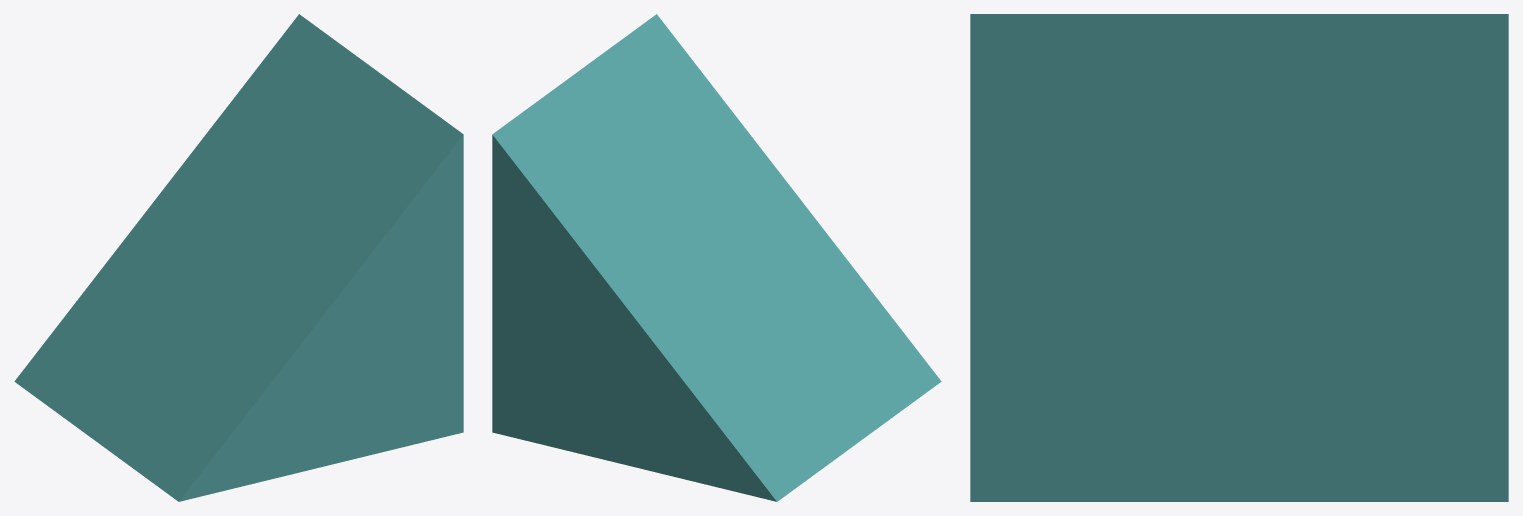
The model's file is OneWay_Slope.glb.
3 renders of one model, left to right at view 1: azimuth 30°, elevation 25°; view 2: azimuth 150°, elevation 25°; view 3: azimuth 270°, elevation 25°, orthographic. The views are drawn at different scales.
Parts seen in each view (by area): view 1: OneWay_Slope_body; view 2: OneWay_Slope_body; view 3: OneWay_Slope_body.
Boxes of the visible parts, x1,y1,x2,y2 form: OneWay_Slope_body: (14, 14, 463, 501); OneWay_Slope_body: (492, 14, 941, 501); OneWay_Slope_body: (970, 14, 1508, 501).
Size of the model in its own units: 1 by 1 by 1.
